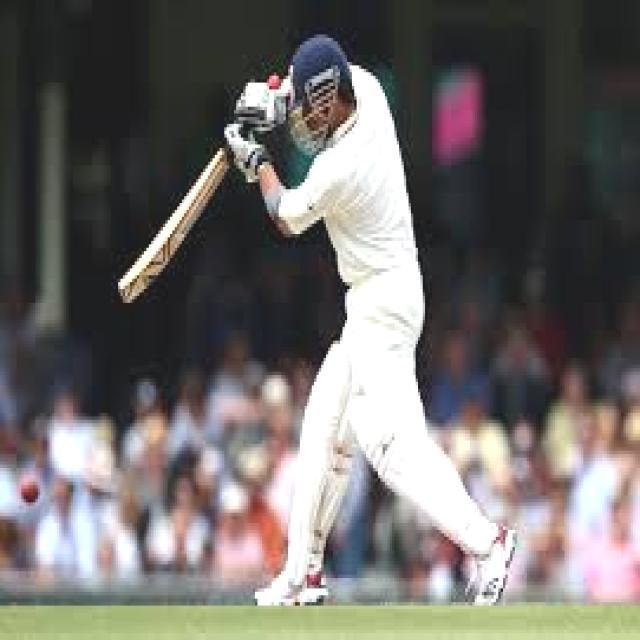bat: (111, 146, 230, 309)
toe: (109, 281, 135, 305)
